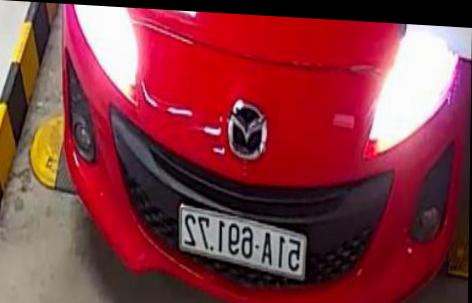License_Plate: (171, 211, 312, 284)
